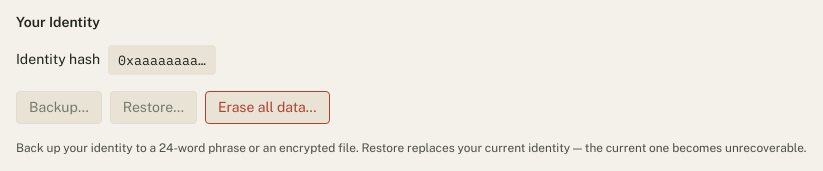
Scenario: Backup wizard — step 1 (type picker) › Cancel returns to idle state
Expected: the button "0xaaaaaaaa…" is shown, [108,45,216,75]
What coordinates should you click on to do the following:
click the button "Backup…"
I would click on:
 (59, 107)
Its box is [16,91,102,124].
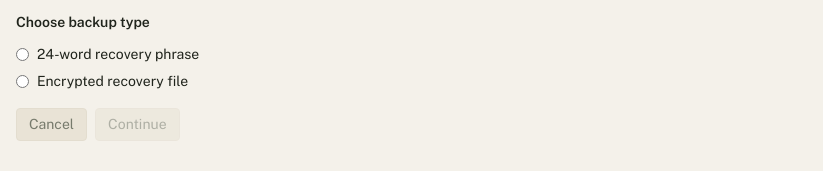
What coordinates should you click on to do the following:
click the button "Cancel"
I would click on:
 (52, 125)
Its box is [16,108,87,141].
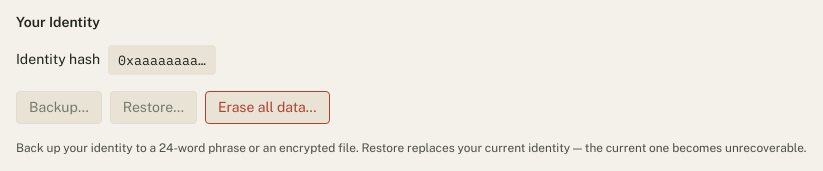
Result: the button "0xaaaaaaaa…" is shown at [108,45,216,75]
Result: the button "Backup…" is shown at [16,91,102,124]
